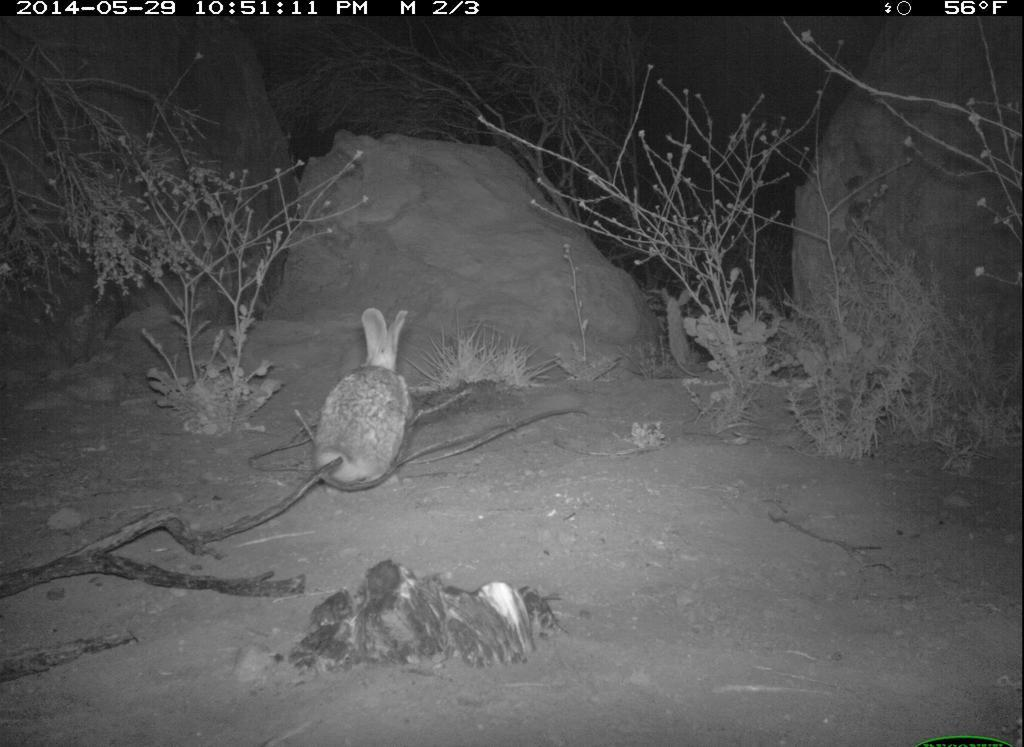rabbit: (314, 305, 423, 498)
